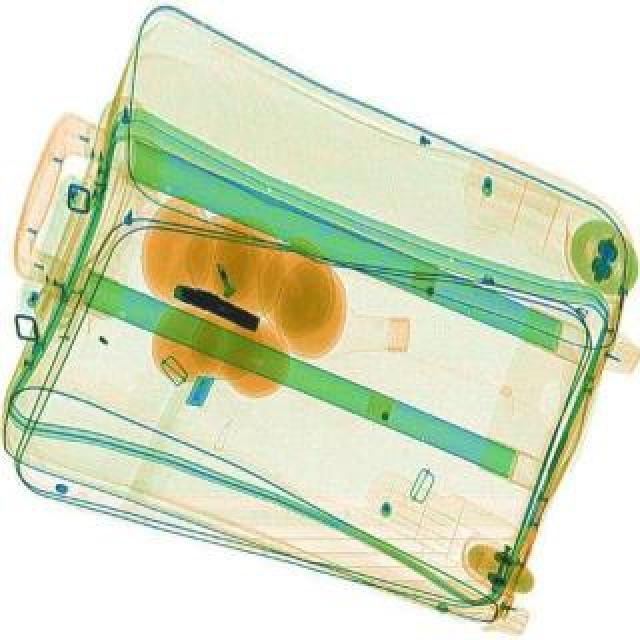gun: (170, 276, 268, 332)
